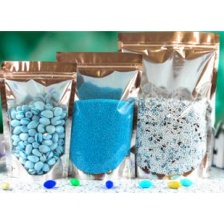snack: (113, 31, 224, 183), (51, 47, 147, 184), (0, 55, 81, 186)
